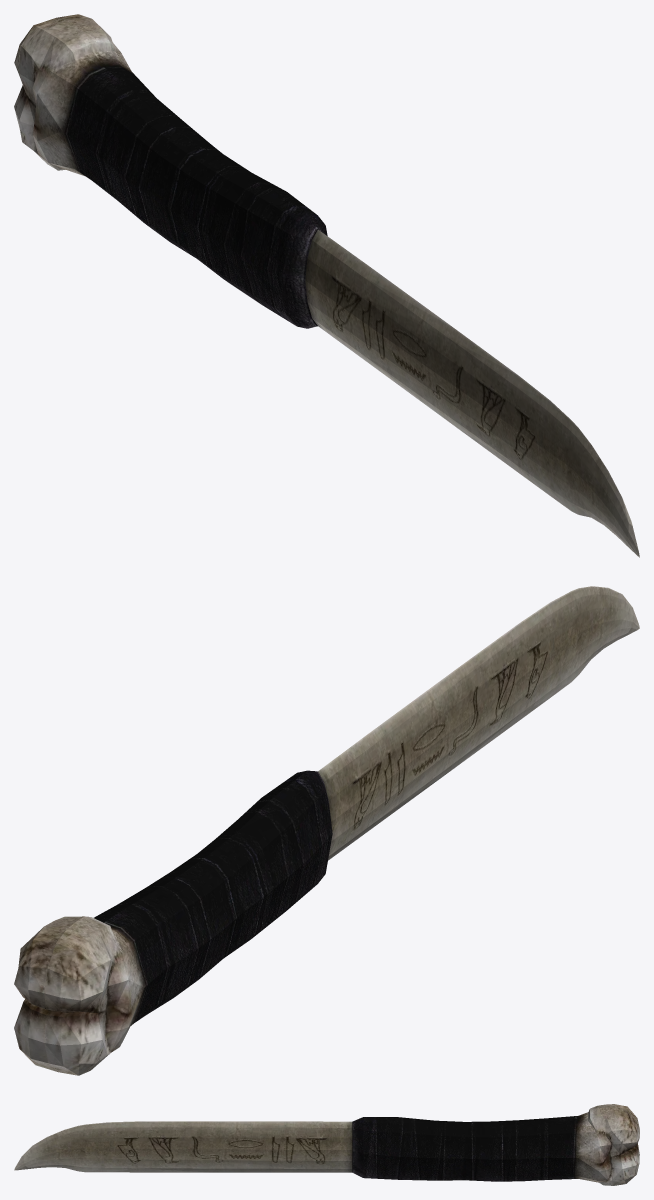
The model's file is Dual_BoneKnife.obj.
3 renders of one model, top to bottom at view 1: azimuth 30°, elevation 25°; view 2: azimuth 150°, elevation 25°; view 3: azimuth 270°, elevation 25°, orthographic. The views are drawn at different scales.
Visible parts, largest first — view 1: Model_BoneKnife; view 2: Model_BoneKnife; view 3: Model_BoneKnife.
Part boxes in pixels (x1=…): Model_BoneKnife: x1=14, y1=14, x2=639, y2=557; Model_BoneKnife: x1=14, y1=586, x2=639, y2=1075; Model_BoneKnife: x1=14, y1=1104, x2=639, y2=1185.
Size of the model in its own units: 0.0295 by 0.0427 by 0.3237.
1 material, 1 textured.
